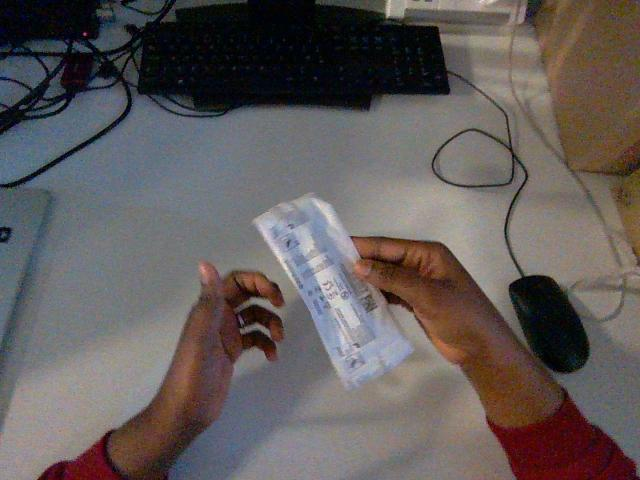syringe: (254, 194, 412, 388)
